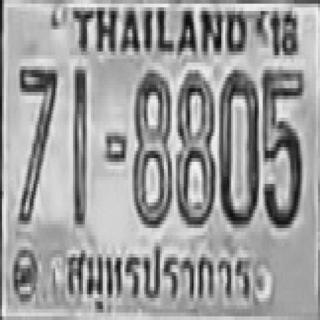N00: (218, 66, 258, 224)
N01: (71, 66, 87, 224)
N05: (261, 66, 302, 224)
N07: (17, 62, 56, 221)
N08: (131, 70, 171, 224), (175, 70, 214, 224)
P57: (60, 236, 254, 304)
